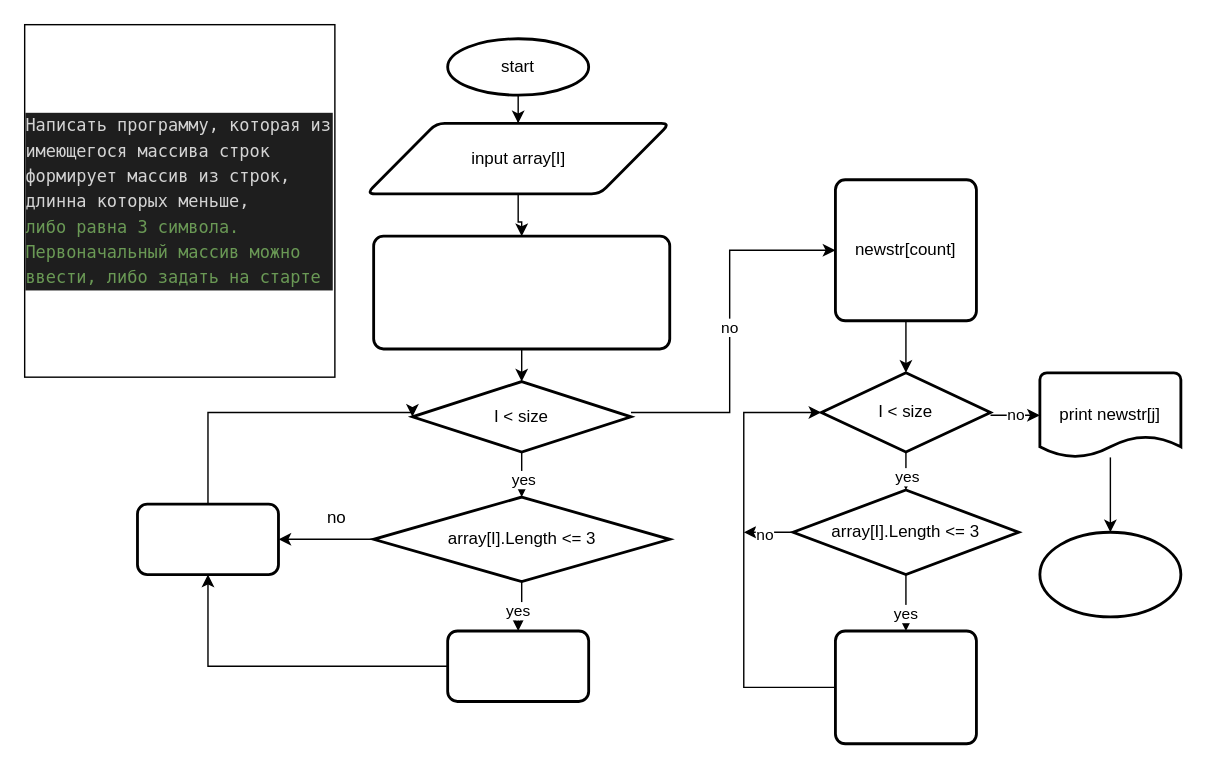
Some shapes in this 1207 by 770 pixel diagram are drawn without their labels. The centre of each missing label's shape, as x and y in pixels:
"array[I], count = 0 j = 0, I = 0 size = array.GetLength(0)" belongs at (x=521, y=292).
"count = count +1" belongs at (x=517, y=665).
"end" belongs at (x=1110, y=574).
"I = I+1" belongs at (x=207, y=538).
"newstr[j] = array[I] j = j +1" belongs at (x=905, y=686).
